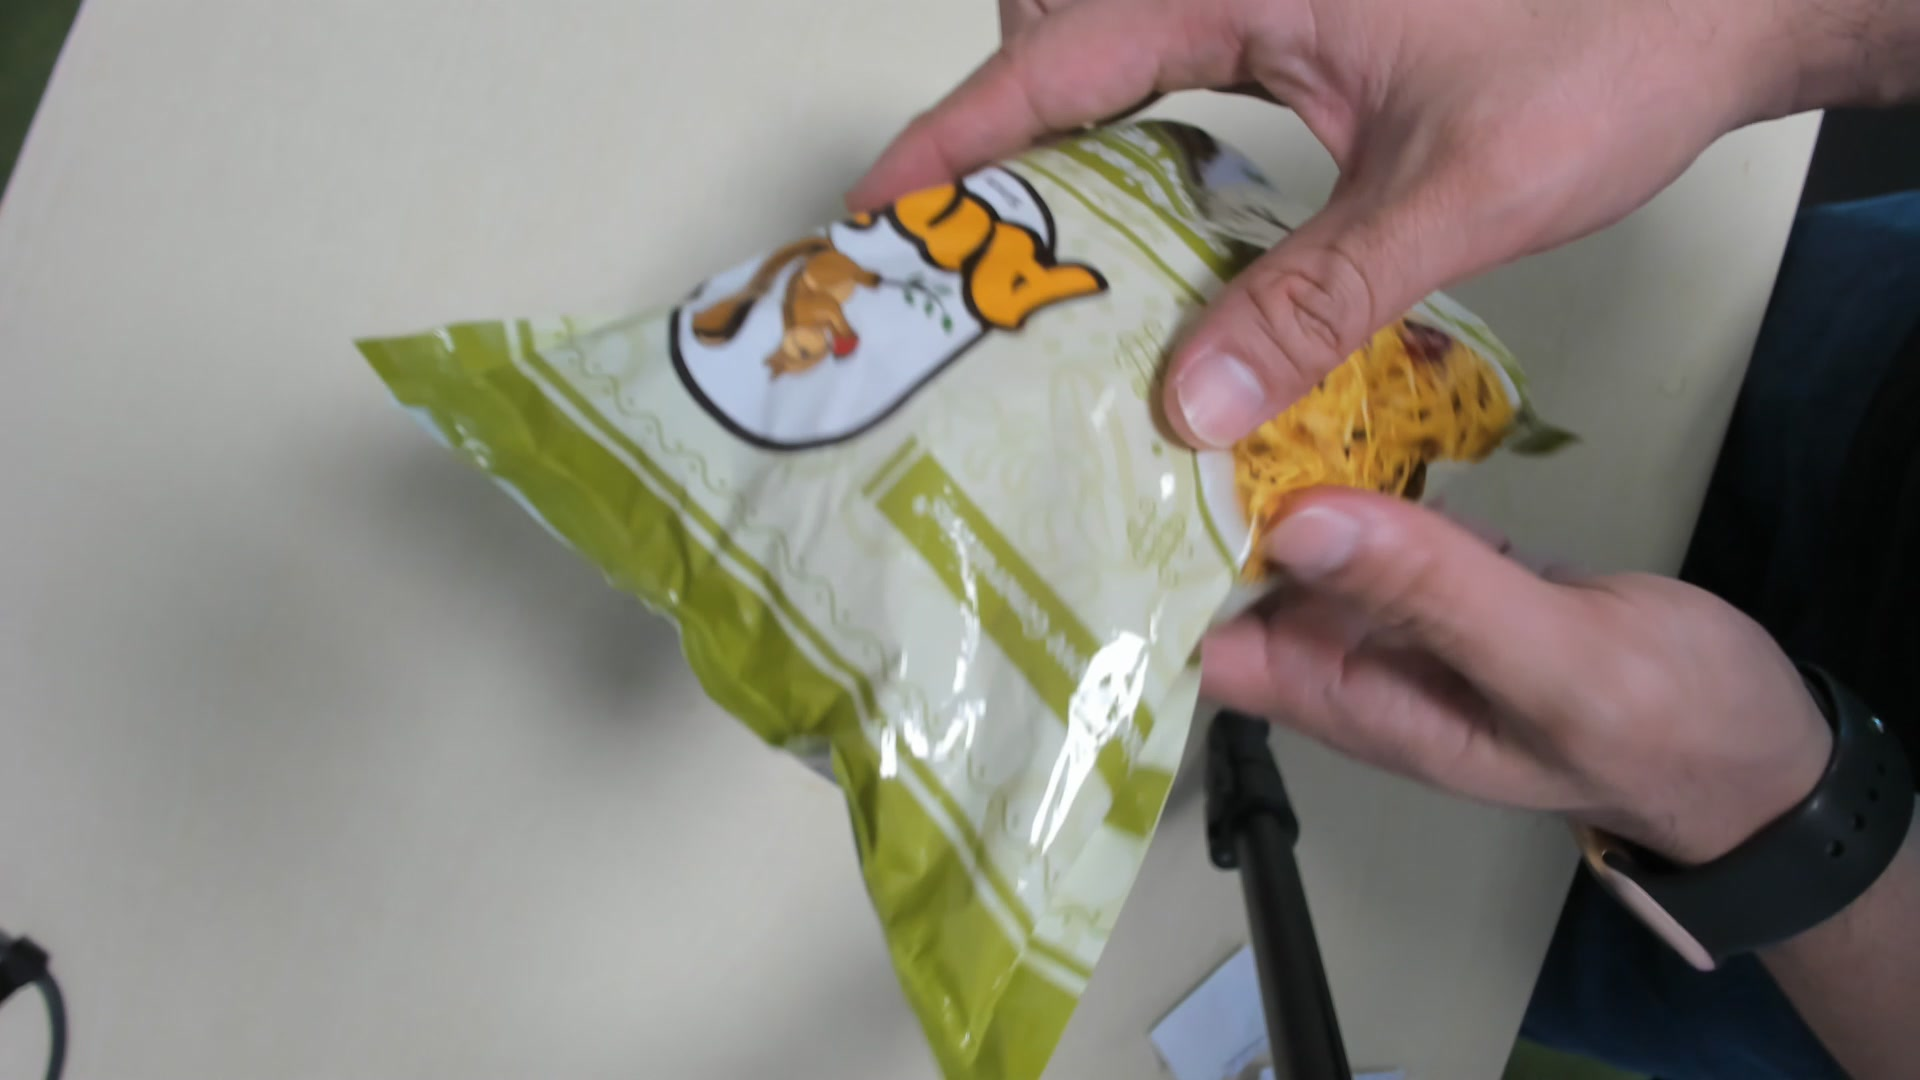BeeHoonVermicelli_200-299g_NonHalal_NonHealthy: (367, 113, 1584, 1080)
